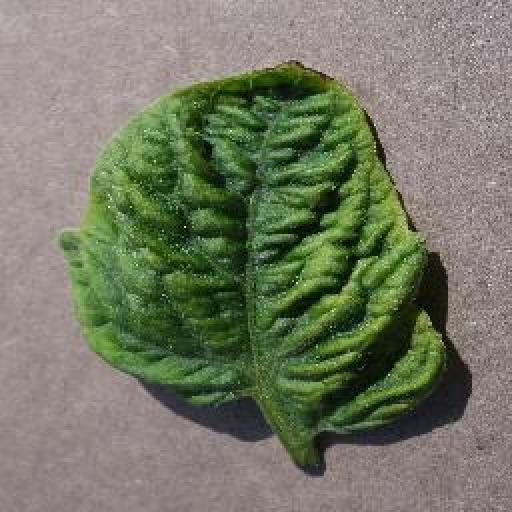Yellow Leaf Curl Virus: (55, 56, 451, 437)
